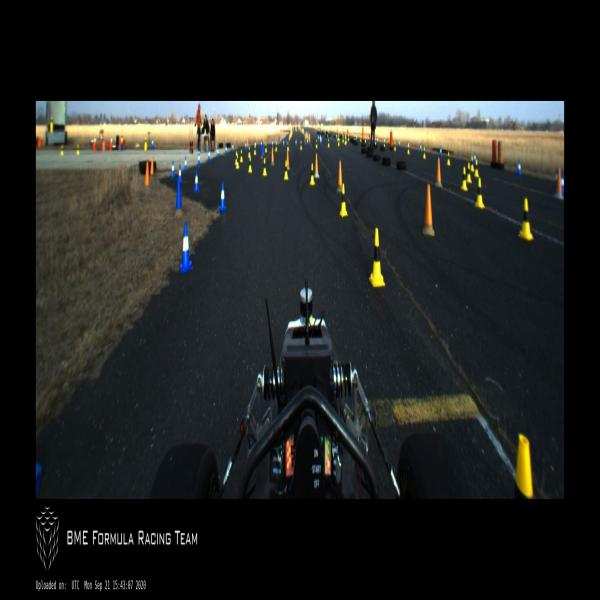blue_cone: (179, 222, 193, 272), (219, 182, 226, 211), (194, 170, 199, 192), (178, 164, 183, 184), (554, 168, 558, 187), (517, 160, 522, 175), (561, 172, 564, 194), (184, 156, 188, 170), (172, 162, 175, 177), (197, 151, 200, 166), (473, 151, 476, 164), (216, 146, 219, 158), (208, 150, 210, 162), (419, 144, 422, 152), (440, 147, 442, 158)
unknown_cone: (422, 183, 435, 237), (336, 160, 342, 193)
yellow_cone: (369, 228, 385, 285), (519, 197, 534, 240), (475, 178, 485, 208), (339, 184, 348, 215), (461, 166, 468, 190), (466, 162, 472, 183), (310, 163, 315, 185), (262, 159, 268, 175), (474, 160, 479, 178), (284, 160, 288, 179), (470, 154, 474, 170), (248, 158, 252, 173), (240, 150, 243, 163), (236, 156, 239, 169), (447, 152, 450, 165), (423, 147, 426, 159), (264, 143, 268, 152), (235, 151, 237, 166), (407, 145, 410, 154), (248, 147, 250, 158), (394, 141, 396, 151), (254, 145, 256, 155), (286, 140, 288, 150), (275, 143, 277, 151), (300, 142, 302, 150)
